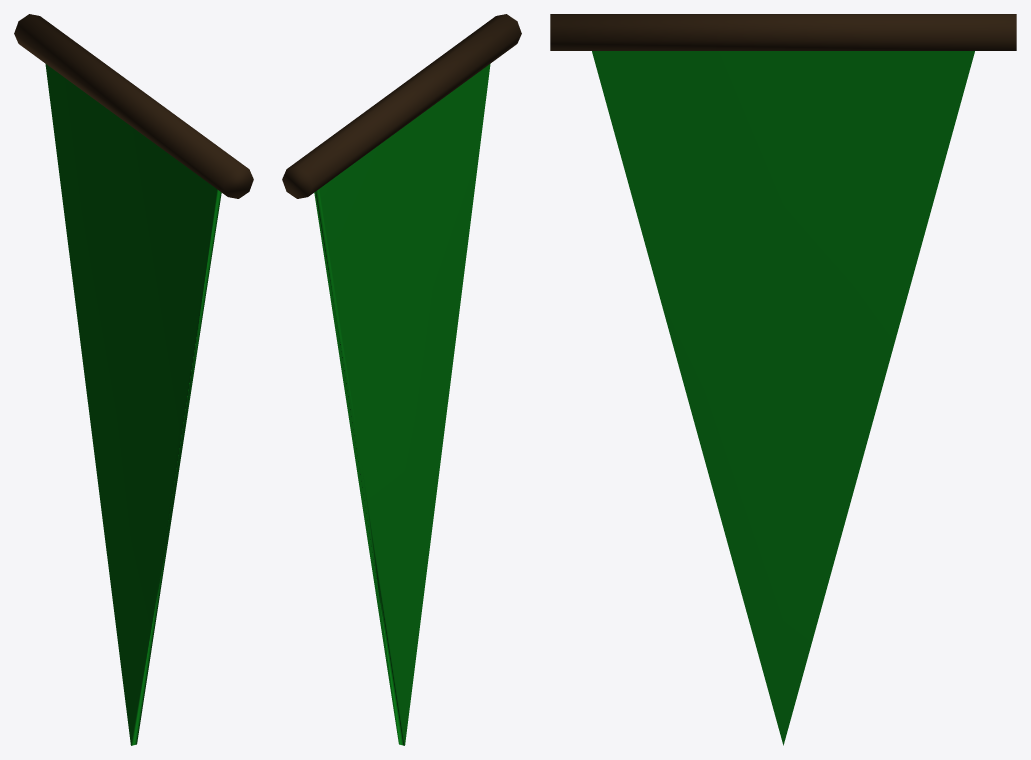
File: flag_2.fbx
3 views of the same model, side by side, from view 1: azimuth 30°, elevation 25°; view 2: azimuth 150°, elevation 25°; view 3: azimuth 270°, elevation 25° (orthographic). The views are drawn at different scales.
Visible parts, largest first — view 1: green, Cylinder; view 2: green, Cylinder; view 3: green, Cylinder.
Boxes of the visible parts, x1,y1,x2,y2 form: green: (45, 64, 221, 745); Cylinder: (14, 14, 253, 198); green: (314, 64, 490, 745); Cylinder: (282, 14, 521, 198); green: (592, 51, 974, 745); Cylinder: (550, 14, 1016, 50).
Size of the model in its own units: 10 by 205 by 119.
